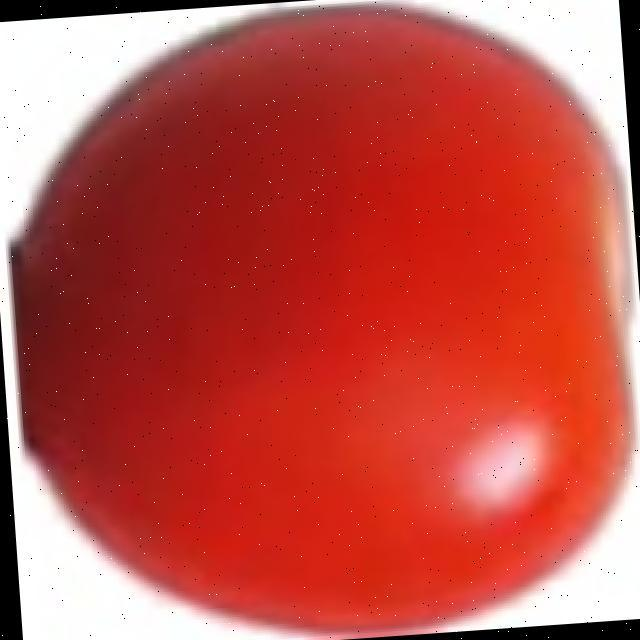tomato: (14, 10, 631, 637)
